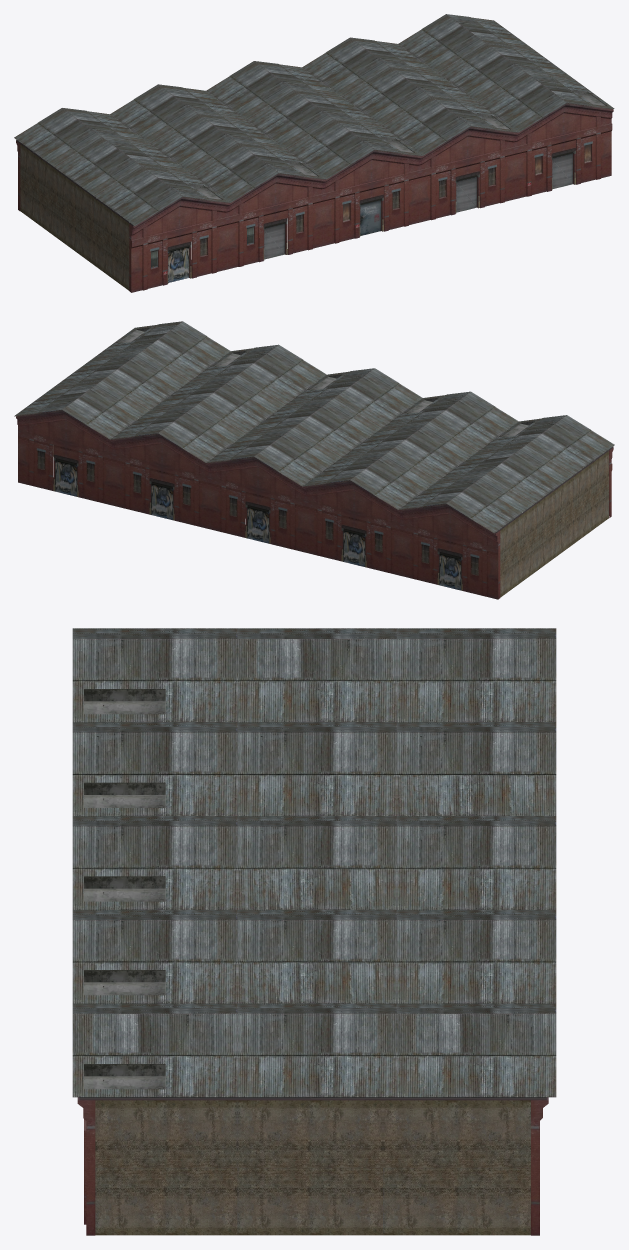
Rendered from sf-warehouses.glb.
3 renders of one model, top to bottom at view 1: azimuth 30°, elevation 25°; view 2: azimuth 150°, elevation 25°; view 3: azimuth 270°, elevation 25°, orthographic. The views are drawn at different scales.
Visible parts, largest first — view 1: mainer_2; view 2: mainer_2; view 3: mainer_2.
Boxes of the visible parts, bbox=[...] form: mainer_2: bbox=[14, 14, 614, 292]; mainer_2: bbox=[14, 321, 614, 599]; mainer_2: bbox=[72, 628, 556, 1235].
Bounding box in the file's own units: 247 × 42.94 × 108.
Materials: 1 (1 with a texture image).
